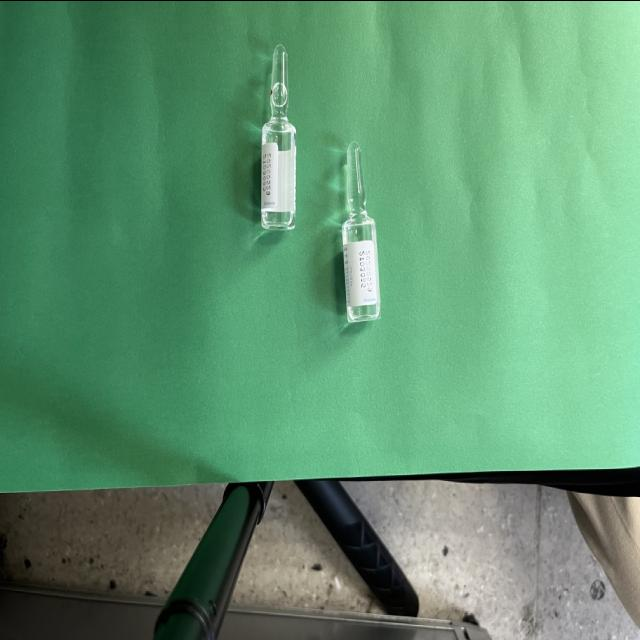Ampoules: (341, 141, 380, 323), (261, 44, 296, 230)
